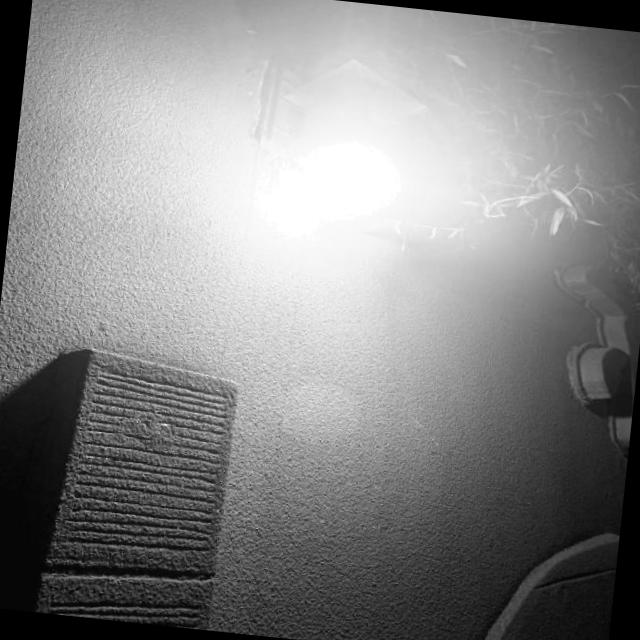Light: (288, 130, 408, 228)
